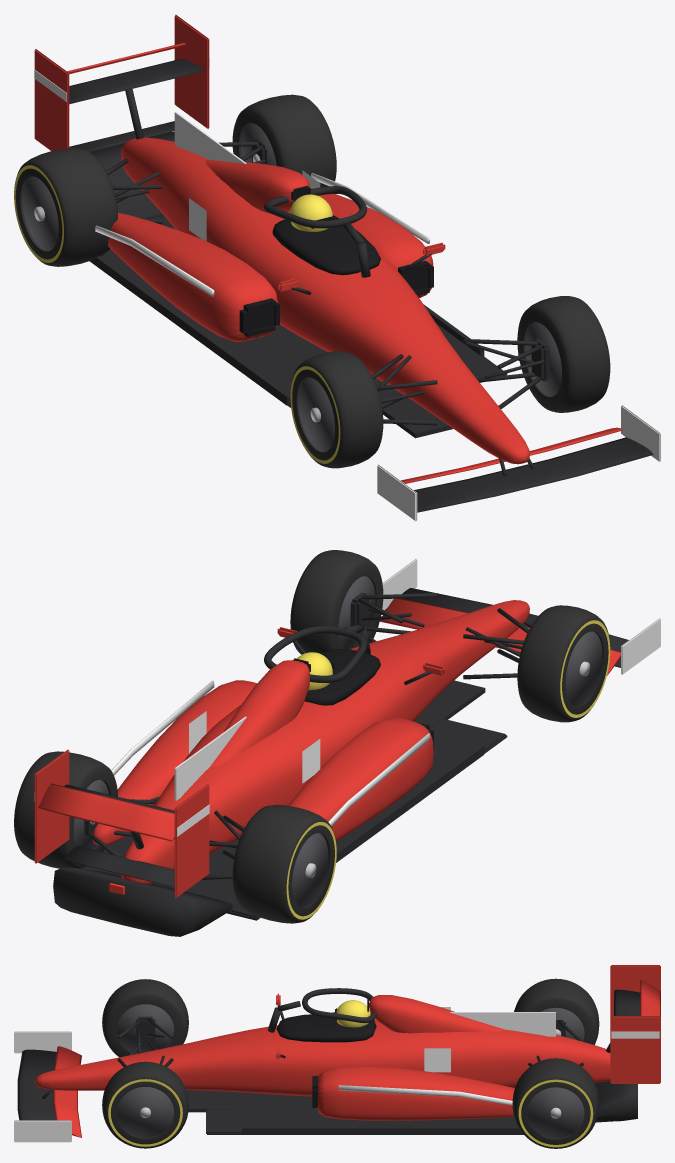
The model's file is monoposto.glb.
3 renders of one model, top to bottom at view 1: azimuth 30°, elevation 25°; view 2: azimuth 150°, elevation 25°; view 3: azimuth 270°, elevation 25°, orthographic. The views are drawn at different scales.
Visible parts, largest first — view 1: scocca, pancia_dx, wheel_RR, wheel_FR, wheel_FL, wheel_RL, ala_anteriore, fondo, abitacolo, airbox, pancia_sx, paratia_post_1 (+16 smaller); view 2: scocca, wheel_RR, pancia_dx, wheel_FR, diffusore, wheel_FL, pancia_sx, fondo, airbox, wheel_RL, aero_rear_flap, paratia_post_-1 (+15 smaller); view 3: scocca, pancia_sx, wheel_RL, wheel_FL, fondo, wheel_FR, paratia_post_1, wheel_RR, airbox, bordo_fondo_1, ala_anteriore, abitacolo (+15 smaller).
Boxes of the visible parts, x1,y1,x2,y2 form: scocca: (121,137,529,464); pancia_dx: (108,212,278,341); wheel_RR: (14,148,117,266); wheel_FR: (290,351,383,468); wheel_FL: (517,296,610,412); wheel_RL: (232,94,336,187); ala_anteriore: (414,437,653,512); fondo: (101,216,507,407); abitacolo: (272,215,380,275); airbox: (205,159,309,213); pancia_sx: (320,194,433,298); paratia_post_1: (174,14,209,128); scocca: (121,600,529,884); wheel_RR: (232,804,336,923); pancia_dx: (288,717,433,840); wheel_FR: (517,605,610,722); diffusore: (53,867,232,936); wheel_FL: (290,550,383,654); pancia_sx: (92,680,256,845); fondo: (81,719,507,920); airbox: (210,660,309,766); wheel_RL: (14,751,117,868); aero_rear_flap: (38,783,174,841); paratia_post_-1: (174,784,209,897); scocca: (35,1018,610,1096); pancia_sx: (317,1066,527,1120); wheel_RL: (512,1058,599,1148); wheel_FL: (102,1061,188,1148); fondo: (206,1091,577,1134); wheel_FR: (102,979,188,1057); paratia_post_1: (610,1016,660,1083); wheel_RR: (514,978,599,1044); airbox: (369,995,505,1033); bordo_fondo_1: (242,1126,540,1134); ala_anteriore: (17,1049,56,1120); abitacolo: (276,1014,376,1042).
Bounding box in the file's own units: 1.96 × 1.03 × 5.36.
